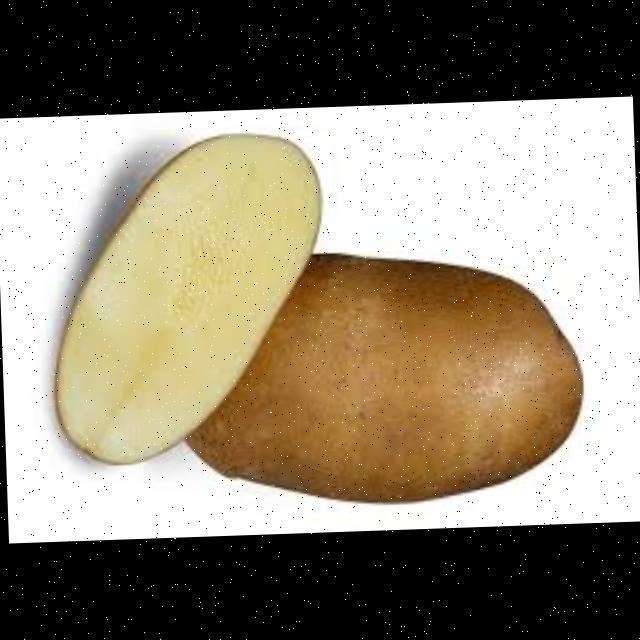Potato: (124, 243, 586, 507), (40, 124, 338, 474)
